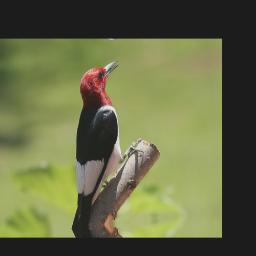Woodpecker: (55, 57, 138, 229)
